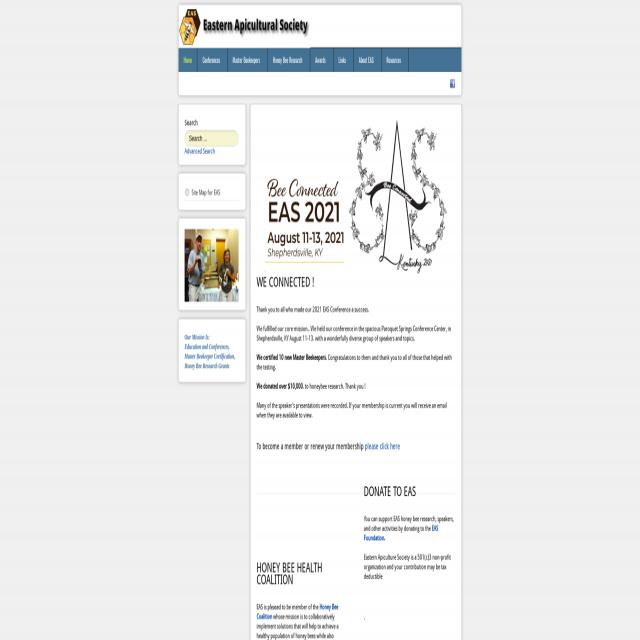button: (256, 116, 456, 276), (178, 5, 310, 48), (184, 230, 238, 302), (268, 49, 310, 71), (228, 48, 268, 71), (197, 48, 227, 71), (354, 48, 382, 71), (382, 48, 408, 72), (310, 48, 333, 72), (334, 48, 353, 72), (179, 49, 197, 71), (450, 80, 455, 88)
field: (184, 130, 238, 146)
